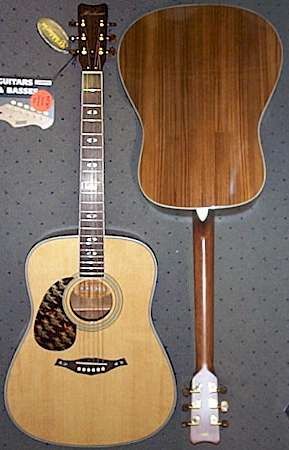guitar: (3, 2, 180, 446), (116, 3, 285, 443)
